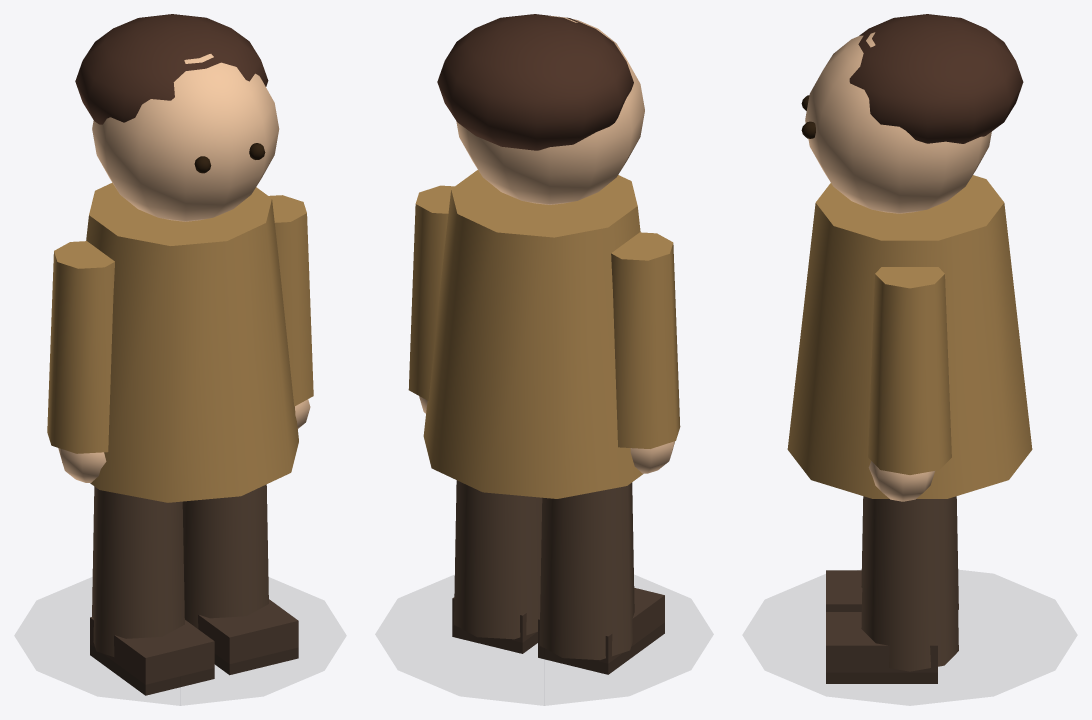
File: villager-gold.glb
3 renders of one model, left to right at view 1: azimuth 30°, elevation 25°; view 2: azimuth 150°, elevation 25°; view 3: azimuth 270°, elevation 25°, orthographic.
Bounding box in the file's own units: 0.96 × 1.95 × 0.96.
